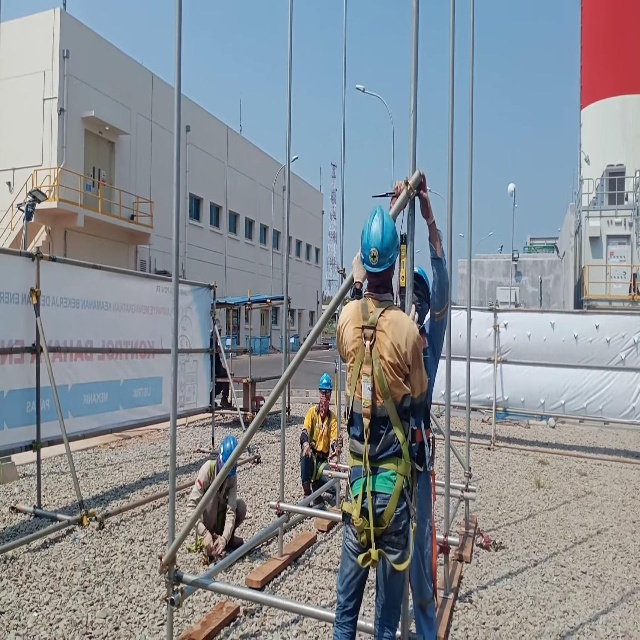Arnes_seguridad: (341, 295, 419, 579), (307, 402, 334, 483)
